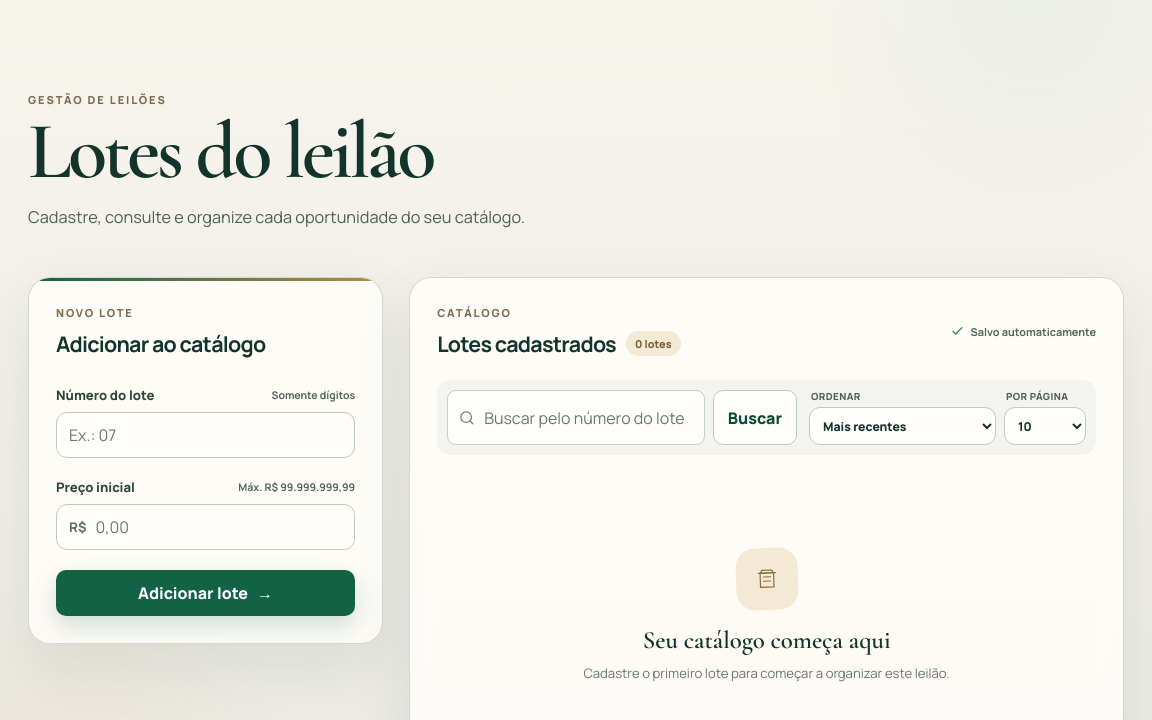
App › mantém os dados e mostra conflito quando o número já existe
Expected: the heading "Seu catálogo começa aqui" is shown, x1=643 y1=625 x2=890 y2=655
Type "01" into the field labelled "Número do lote" at (206, 435), box x1=56 y1=412 x2=355 y2=458
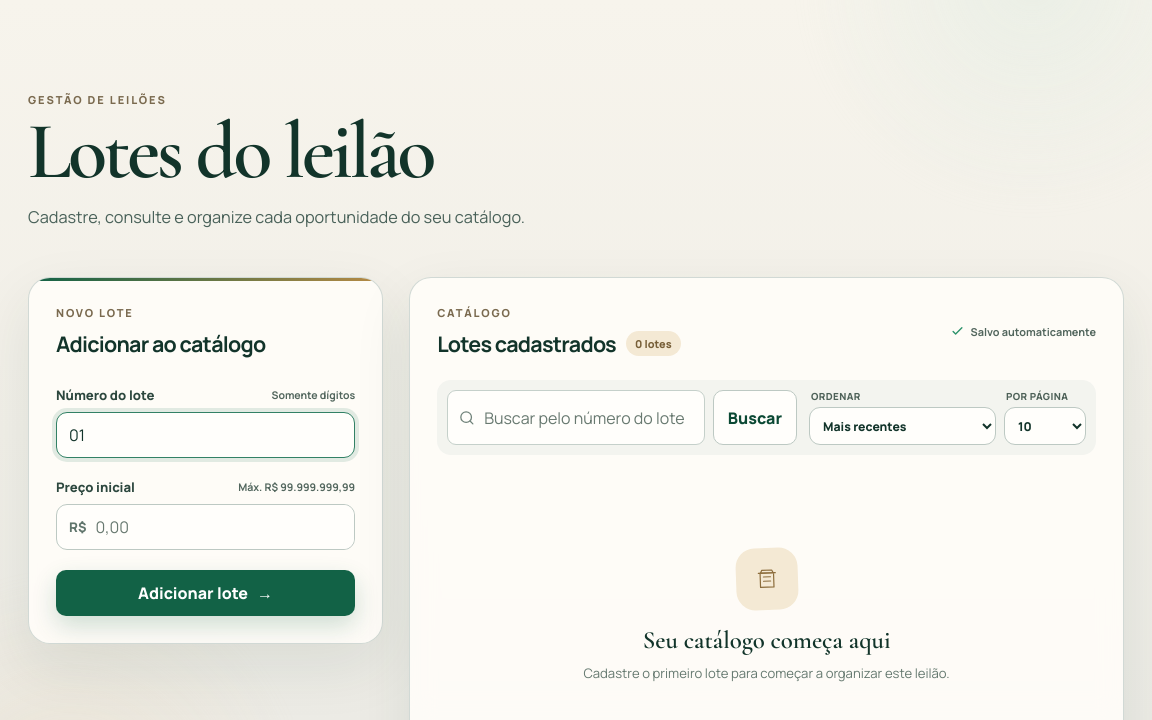
Type "20" into the field labelled "Preço inicial" at (224, 527), box x1=93 y1=505 x2=354 y2=549
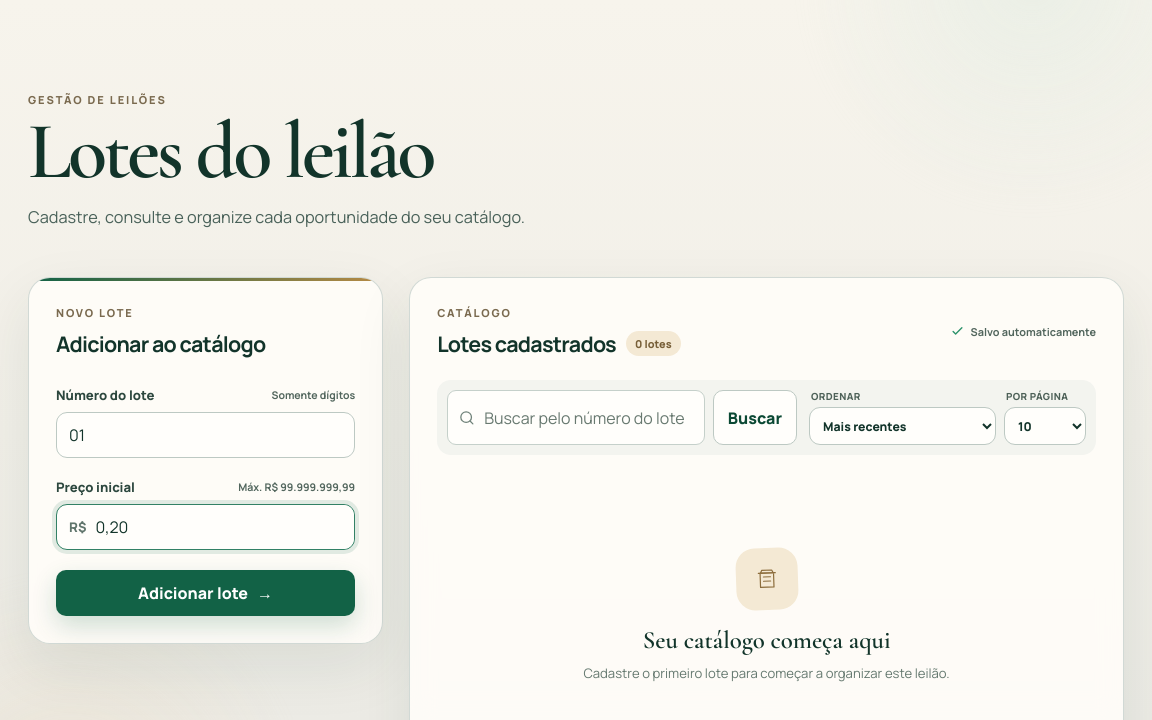
Click the button "Adicionar lote →" at (206, 593), box x1=56 y1=570 x2=355 y2=616
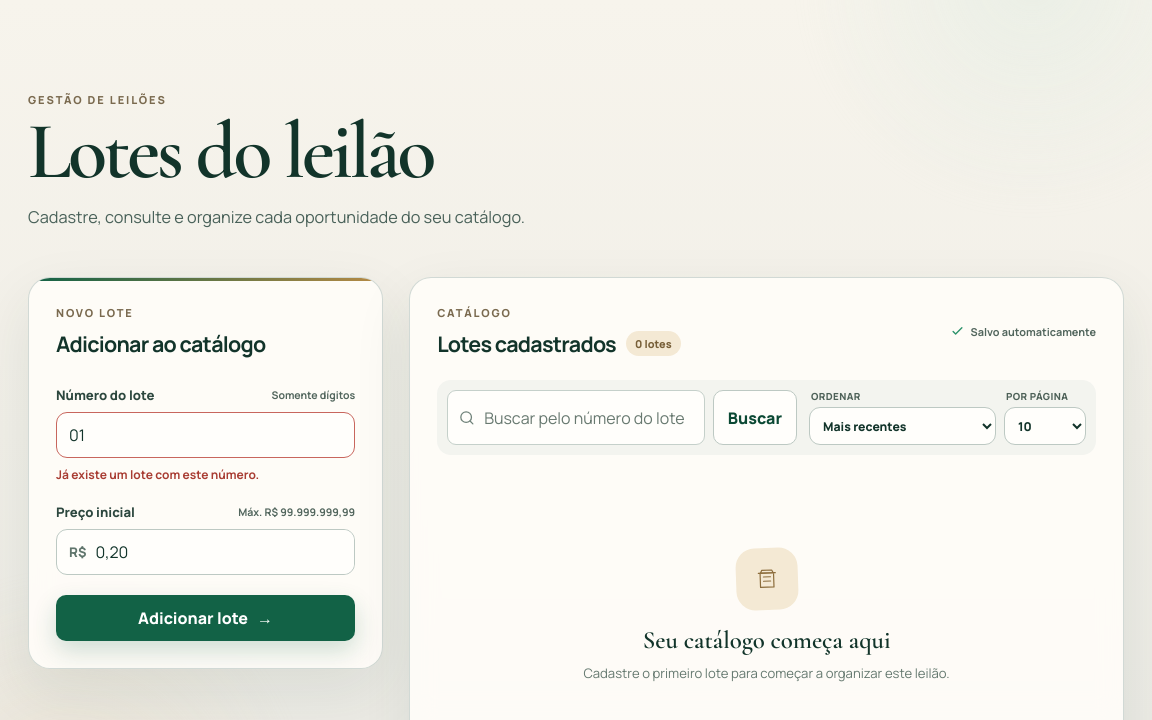
Expected: the message shows "Já existe um lote", x1=56 y1=466 x2=259 y2=483
